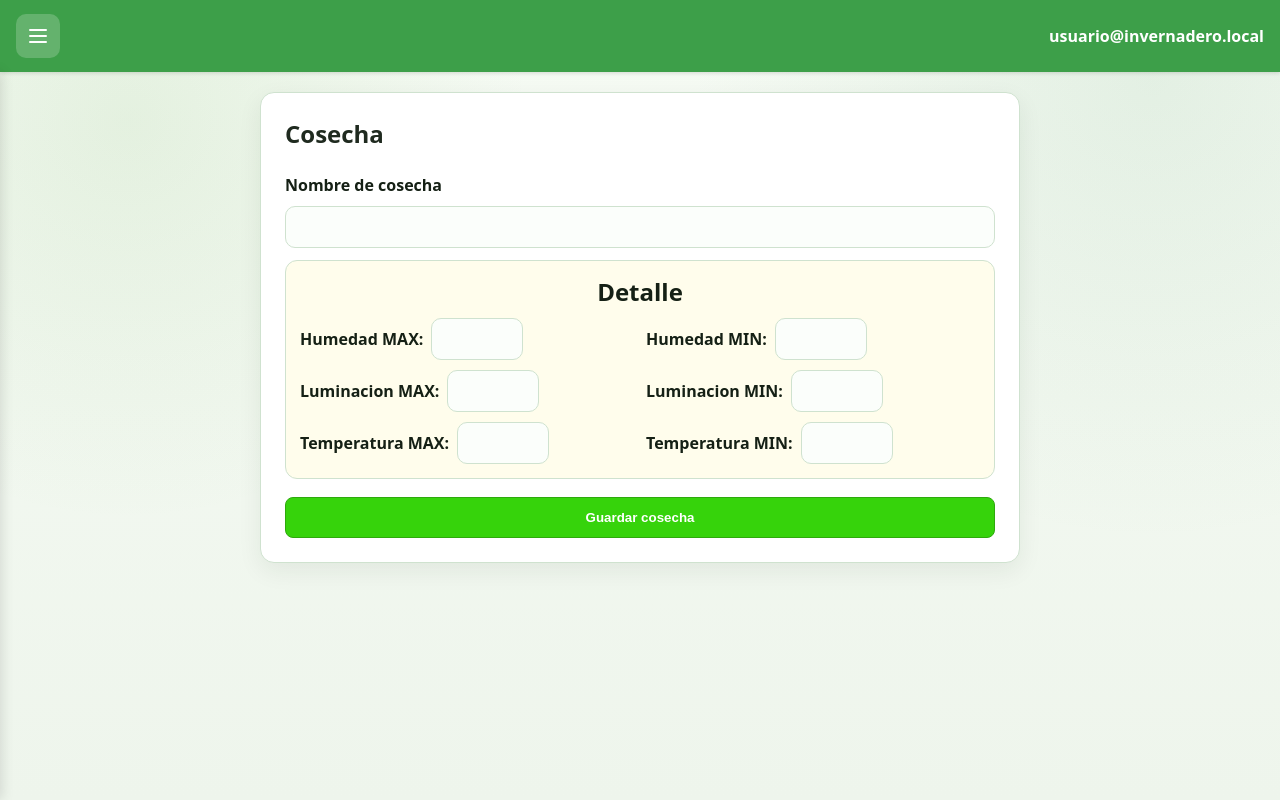
Scenario: CropPage › blocks submit when ranges are invalid
Type "Tomate" into the field labelled "Nombre de cosecha" at (640, 227), box [285,206,995,248]
Type "30" into the field labelled "Temperatura MIN:" at (847, 443), box [801,422,893,464]
Type "20" into the field labelled "Temperatura MAX:" at (503, 443), box [457,422,549,464]
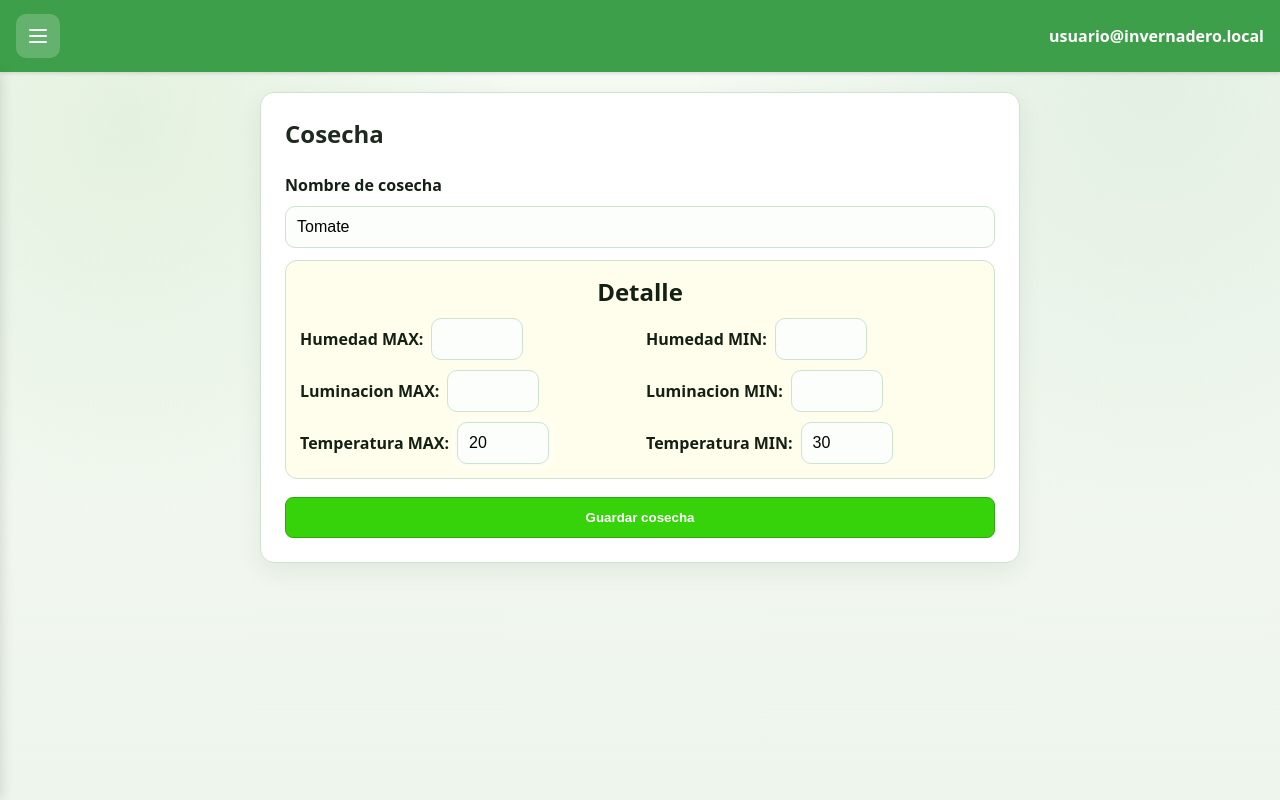
Type "50" into the field labelled "Humedad MIN:" at (821, 339), box [775,318,867,360]
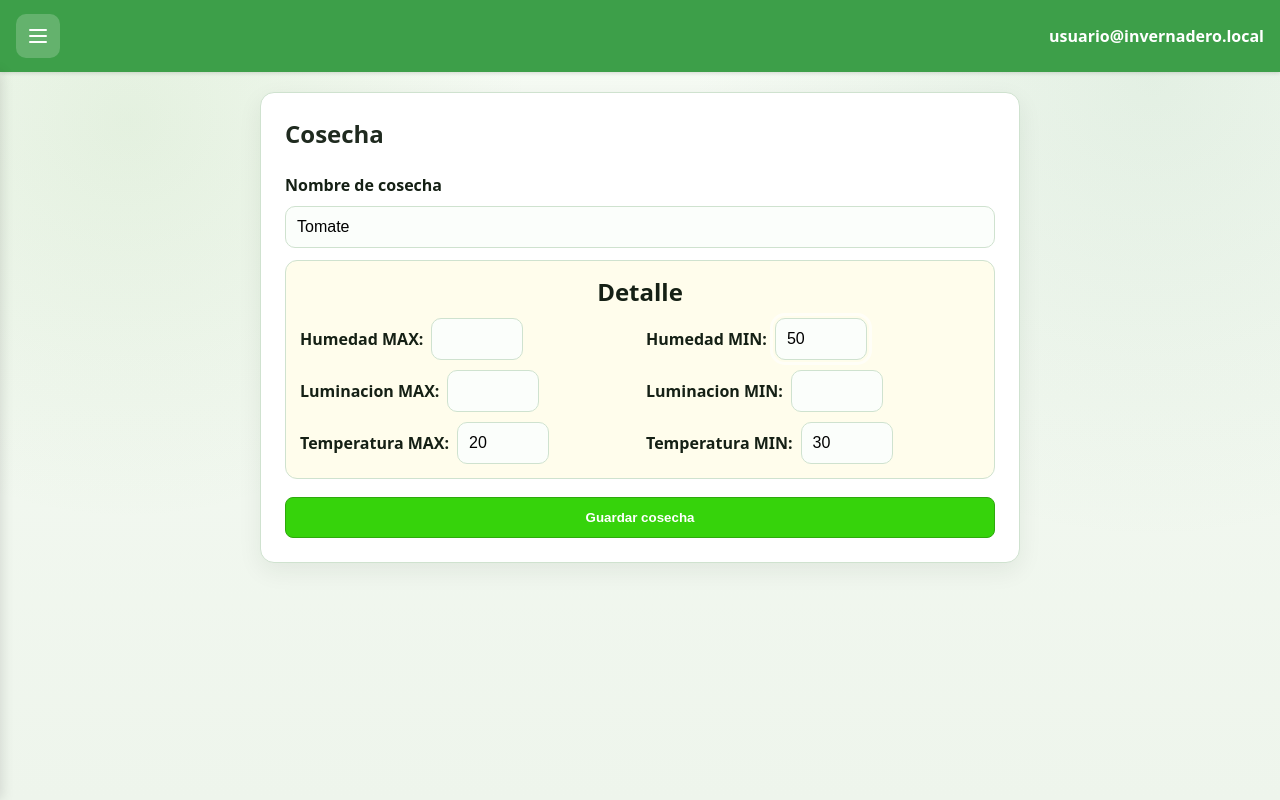
Type "70" into the field labelled "Humedad MAX:" at (477, 339), box [431,318,523,360]
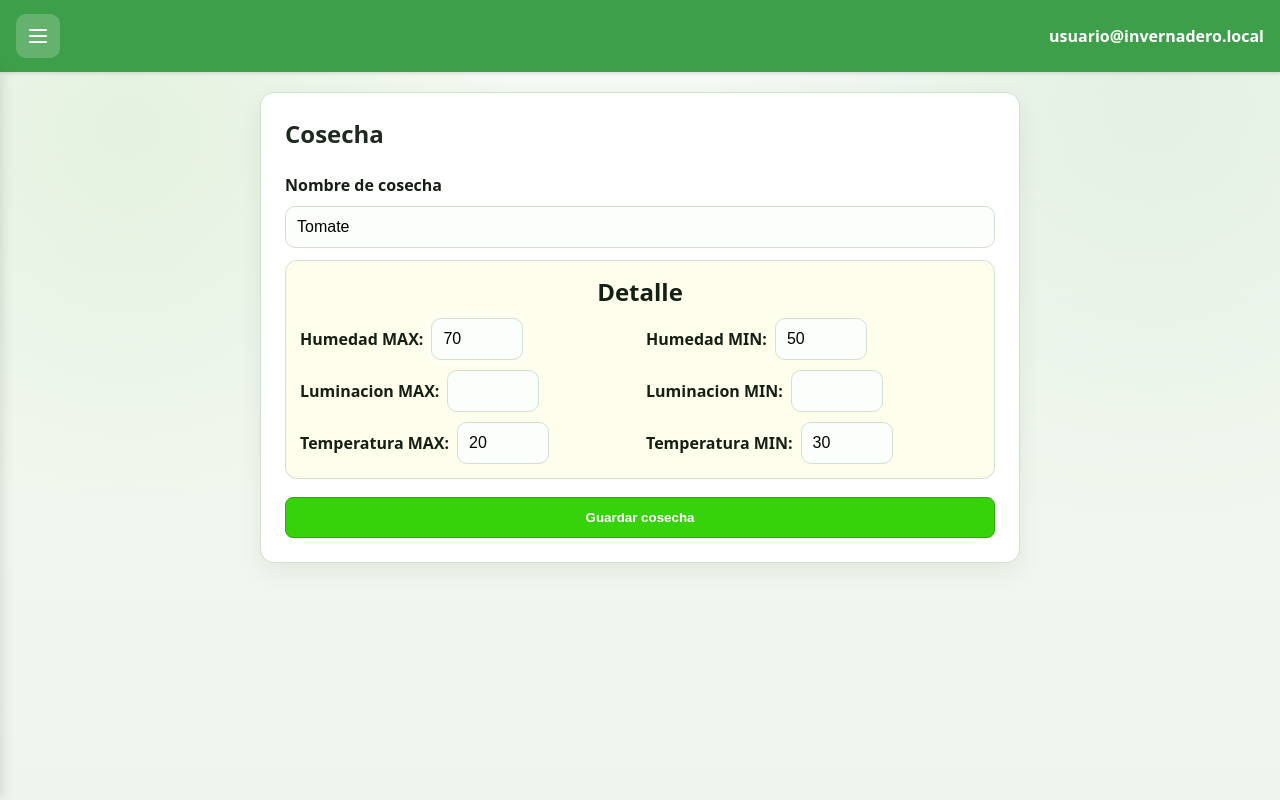
Type "1000" into the field labelled "Luminacion MIN:" at (837, 391), box [791,370,883,412]
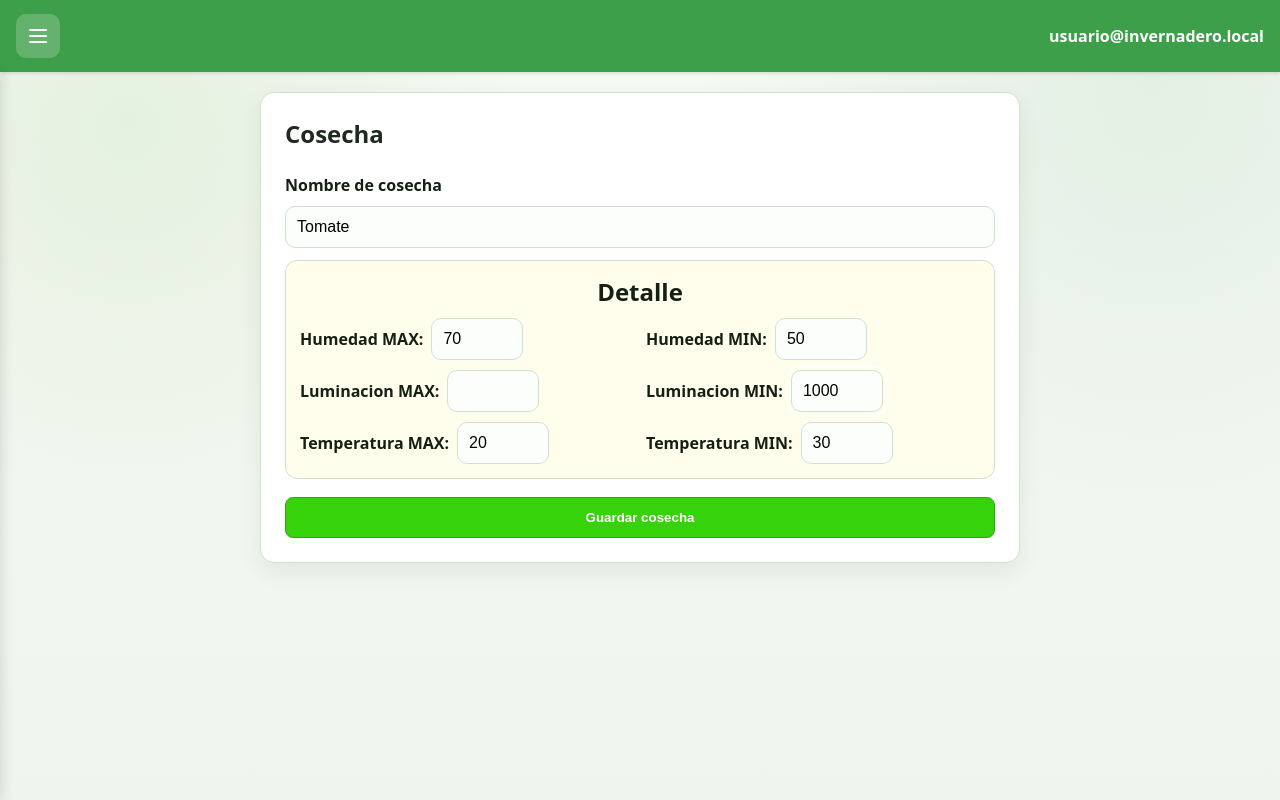
Type "2000" into the field labelled "Luminacion MAX:" at (493, 391), box [447,370,539,412]
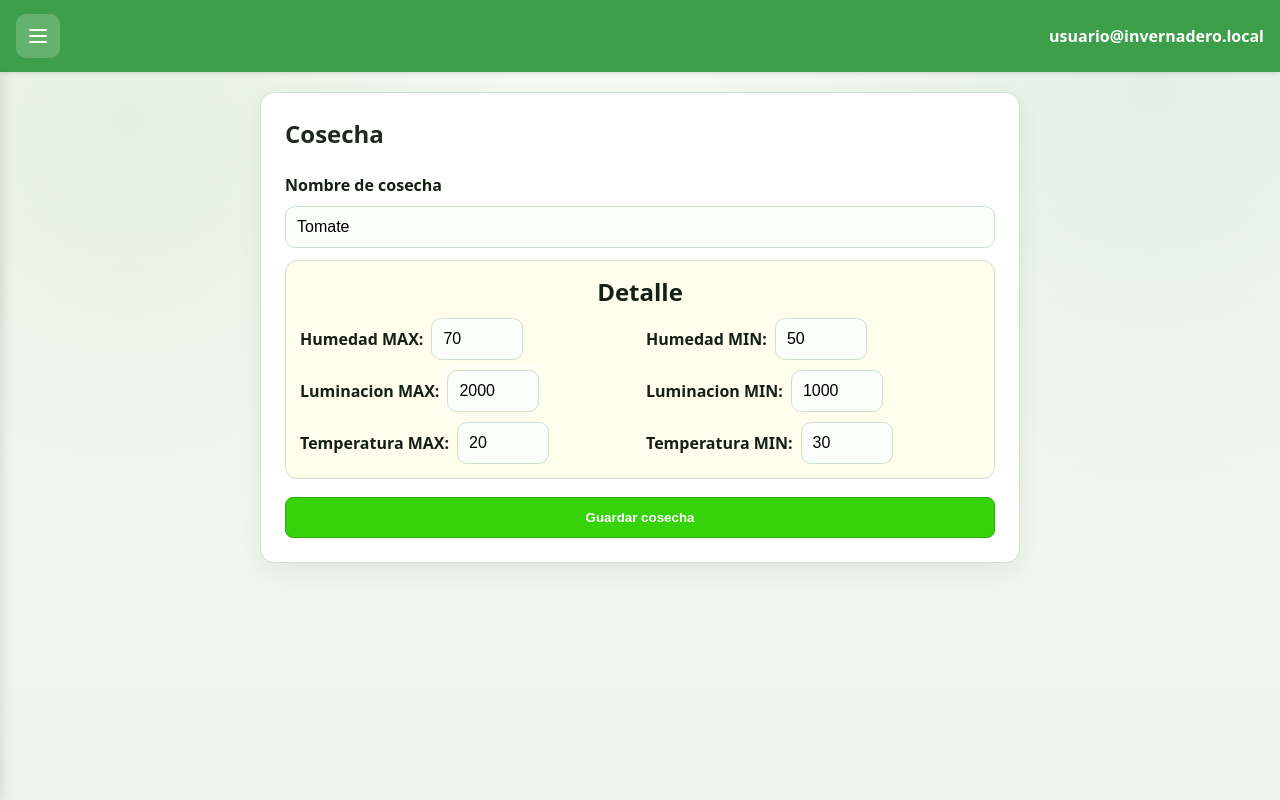
Click the button "Guardar cosecha" at (640, 518), box [285,497,995,538]
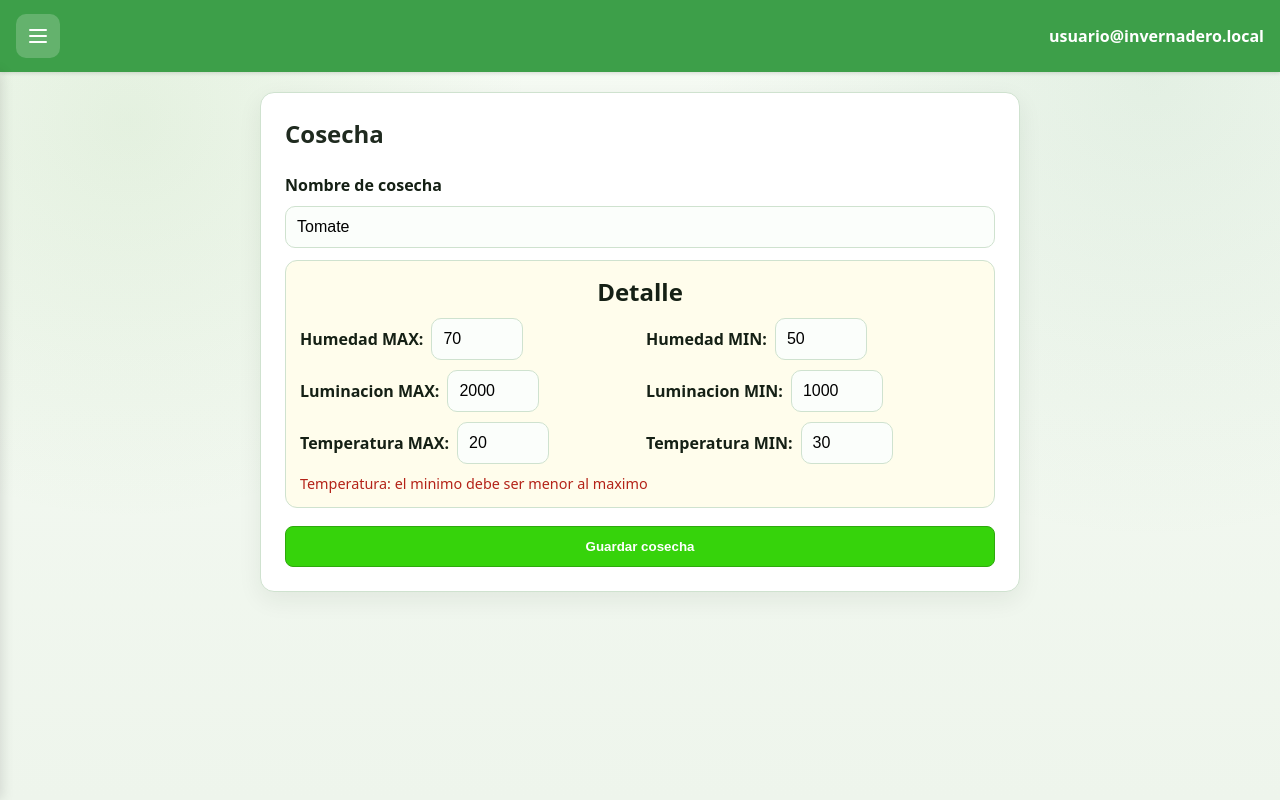
Result: the text "Temperatura: el minimo debe ser menor al maximo" is shown at [300,474,648,493]
